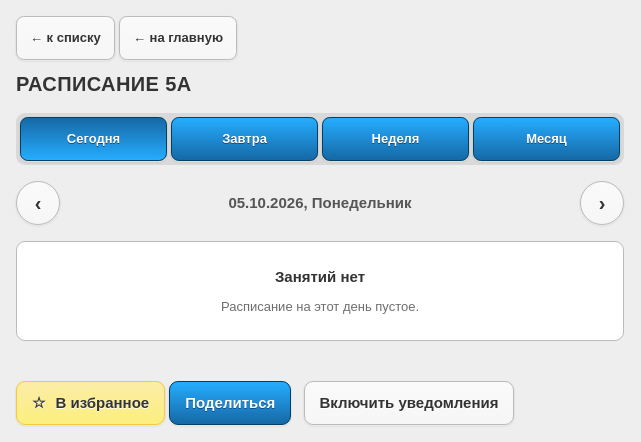
Schedule screen › free day navigation › walks forward past tomorrow
Click the button named "Следующий день" at (602, 203), box [580,181,624,225]
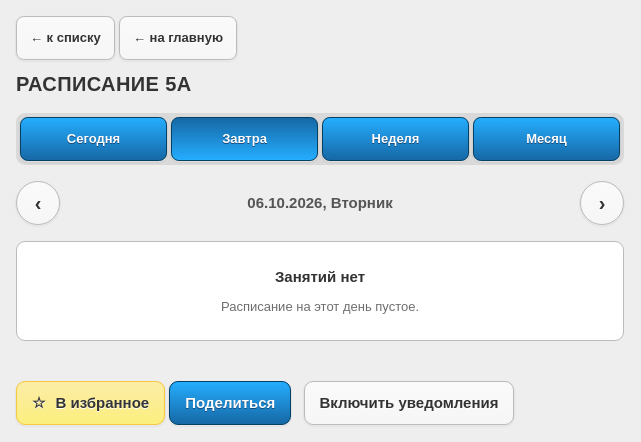
Click the button named "Следующий день" at (602, 203), box [580,181,624,225]
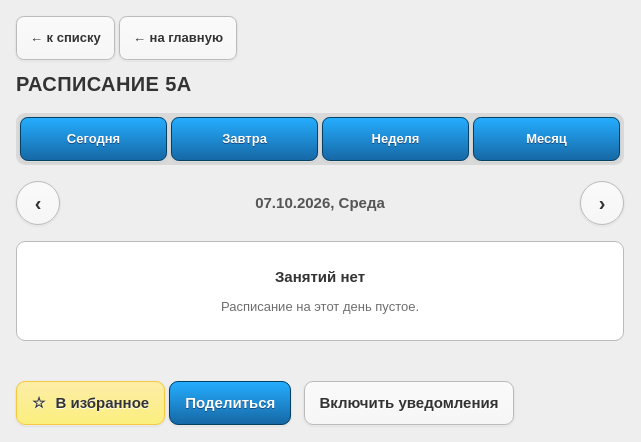
Expected: the text "07.10.2026, Среда" is shown, [255,192,385,214]
